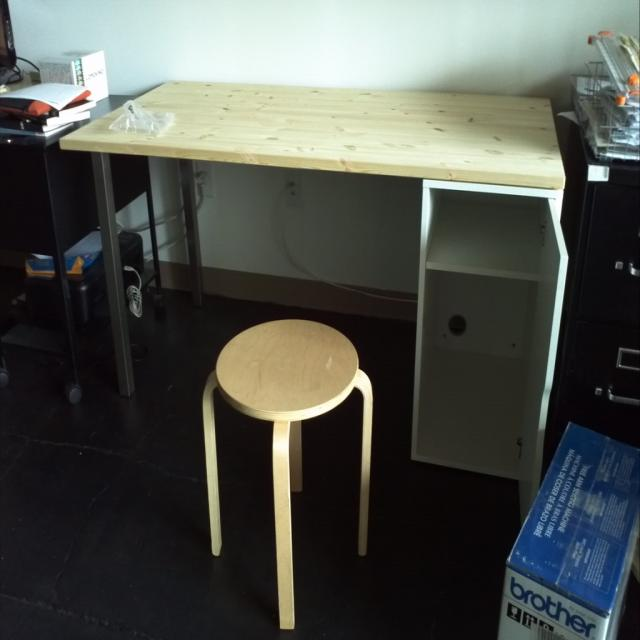chair: (202, 319, 373, 629)
desk: (59, 84, 568, 517)
